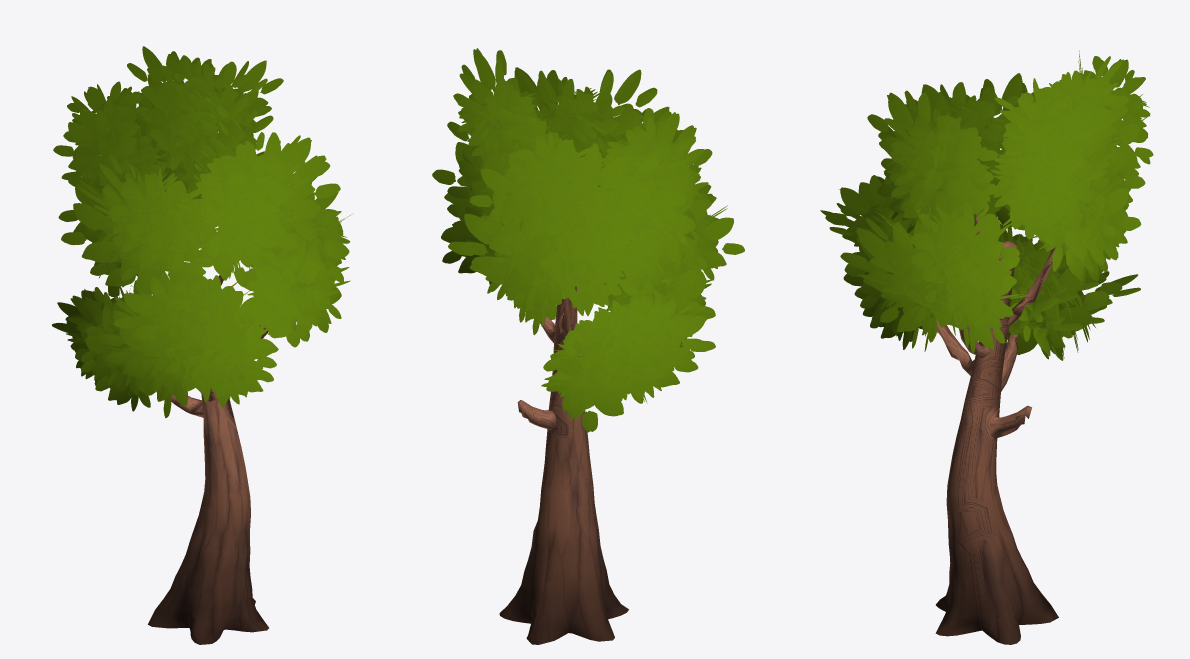
File: CommonTree_5.glb
3 renders of one model, left to right at view 1: azimuth 30°, elevation 25°; view 2: azimuth 150°, elevation 25°; view 3: azimuth 270°, elevation 25°, orthographic. The views are drawn at different scales.
Parts seen in each view (by area): view 1: CommonTree_5; view 2: CommonTree_5; view 3: CommonTree_5.
Part boxes in pixels (left/top/right/bottom): CommonTree_5: left=52, top=46, right=353, bottom=644; CommonTree_5: left=432, top=48, right=744, bottom=644; CommonTree_5: left=820, top=50, right=1153, bottom=644.
Size of the model in its own units: 3.95 by 7.2 by 4.15.
Materials: 2 (2 with a texture image).
